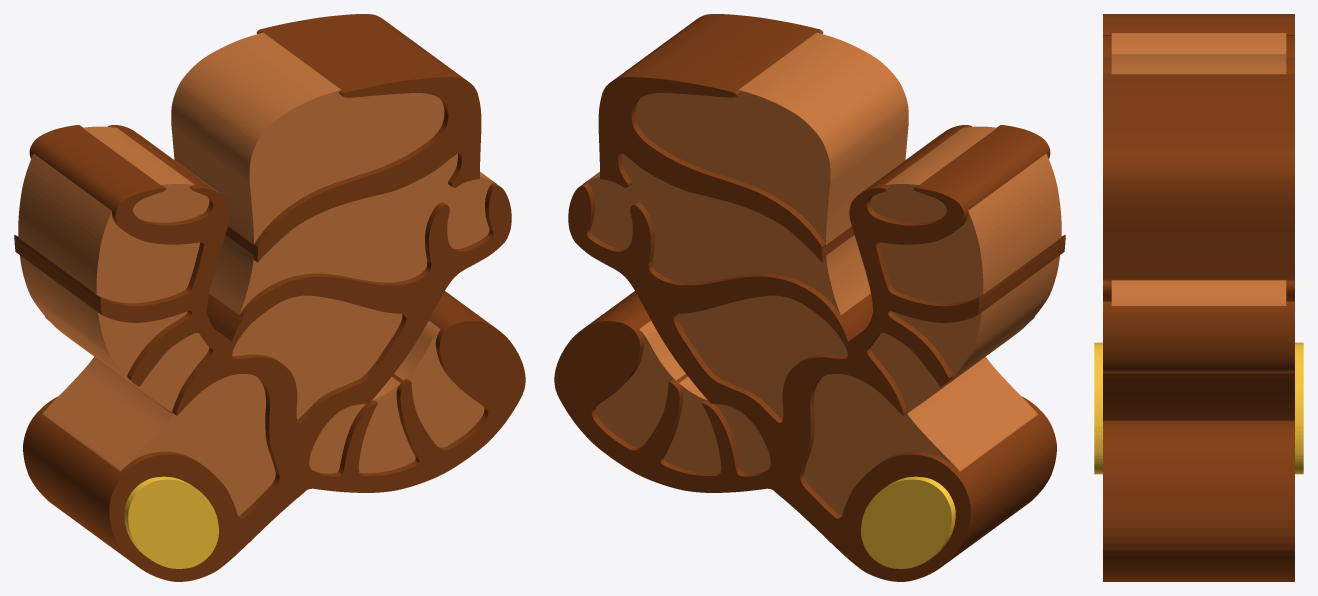
File: U+1FADA.obj
3 views of the same model, side by side, from view 1: azimuth 30°, elevation 25°; view 2: azimuth 150°, elevation 25°; view 3: azimuth 270°, elevation 25° (orthographic). The views are drawn at different scales.
Visible parts, largest first — view 1: U+1FADA_layer00_obj00, U+1FADA_layer01_obj01, U+1FADA_layer01_obj00, U+1FADA_layer02_obj00; view 2: U+1FADA_layer00_obj00, U+1FADA_layer01_obj01, U+1FADA_layer01_obj00, U+1FADA_layer02_obj00; view 3: U+1FADA_layer01_obj01, U+1FADA_layer01_obj00, U+1FADA_layer00_obj00, U+1FADA_layer02_obj00.
Part boxes in pixels (<box>): U+1FADA_layer00_obj00: <box>18,32,496,515</box>; U+1FADA_layer01_obj01: <box>14,125,525,581</box>; U+1FADA_layer01_obj00: <box>225,14,481,262</box>; U+1FADA_layer02_obj00: <box>124,476,218,568</box>; U+1FADA_layer00_obj00: <box>583,32,1061,515</box>; U+1FADA_layer01_obj01: <box>554,125,1065,581</box>; U+1FADA_layer01_obj00: <box>598,14,854,262</box>; U+1FADA_layer02_obj00: <box>861,476,955,568</box>; U+1FADA_layer01_obj01: <box>1103,14,1294,581</box>; U+1FADA_layer01_obj00: <box>1103,74,1294,280</box>; U+1FADA_layer00_obj00: <box>1111,33,1286,305</box>; U+1FADA_layer02_obj00: <box>1094,342,1303,474</box>.
Bounding box in the file's own units: 0.3132 × 0.3172 × 0.12.
